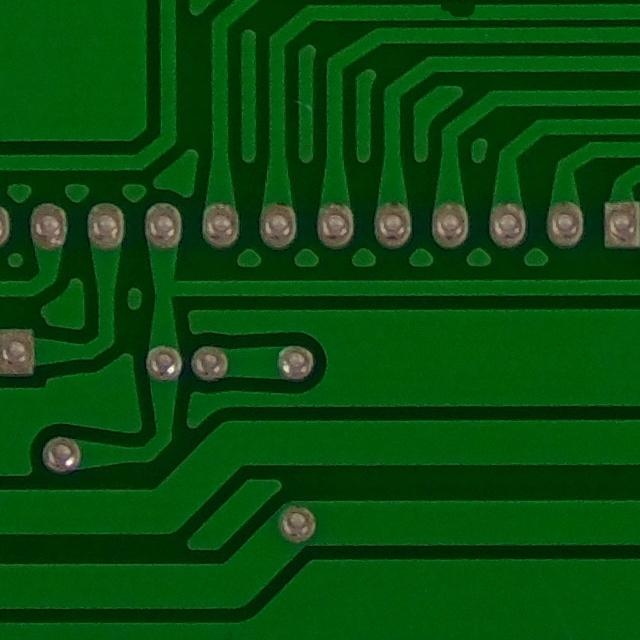mouse_bite: (428, 0, 487, 24)
